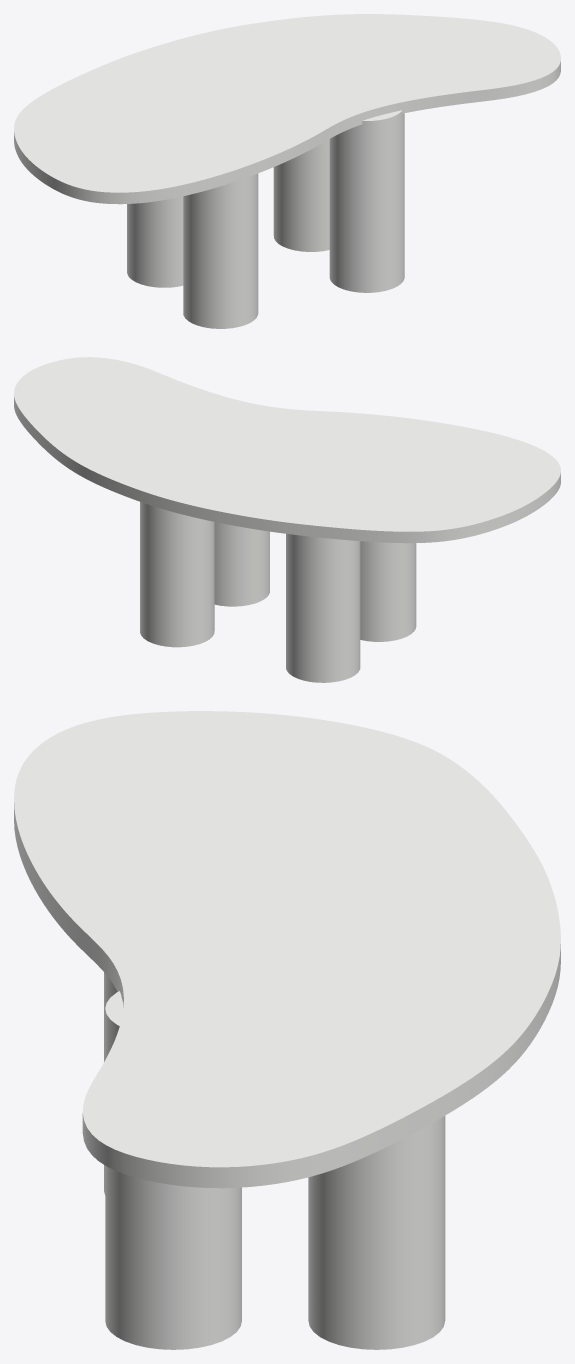
File: purewhite_leaf1_standard_grove.glb
3 renders of one model, top to bottom at view 1: azimuth 30°, elevation 25°; view 2: azimuth 150°, elevation 25°; view 3: azimuth 270°, elevation 25°, orthographic. The views are drawn at different scales.
Visible parts, largest first — view 1: standard_leaf1, grove; view 2: standard_leaf1, grove; view 3: standard_leaf1, grove.
Part boxes in pixels (x1,y1,x2,y2): standard_leaf1: [14, 14, 560, 204]; grove: [127, 110, 404, 328]; standard_leaf1: [14, 357, 560, 543]; grove: [140, 502, 416, 682]; standard_leaf1: [14, 711, 560, 1188]; grove: [104, 972, 445, 1349].
Bounding box in the file's own units: 7.5 × 2.51 × 3.8.
1 material, 1 textured.
